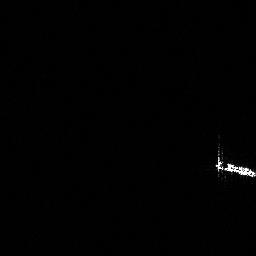ship: (215, 144, 256, 180)
